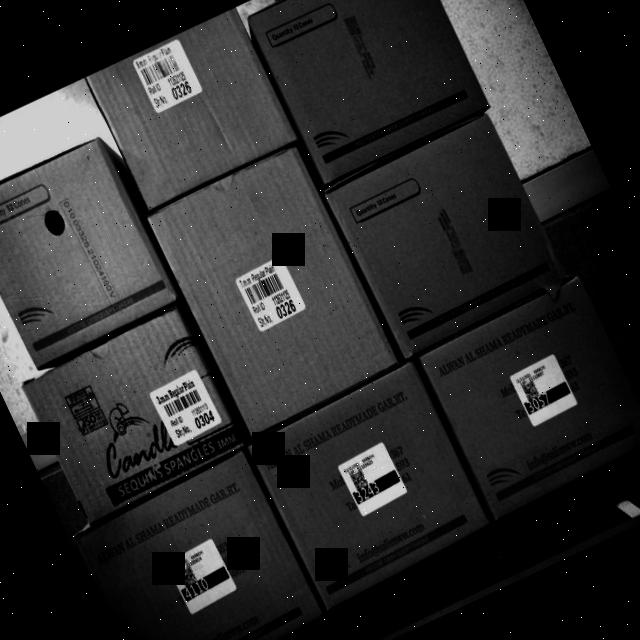box: (149, 145, 399, 434), (323, 110, 568, 356), (250, 367, 493, 608), (420, 280, 640, 518), (16, 306, 247, 525), (70, 453, 326, 640), (242, 0, 490, 185), (0, 129, 181, 374), (84, 6, 300, 210)
